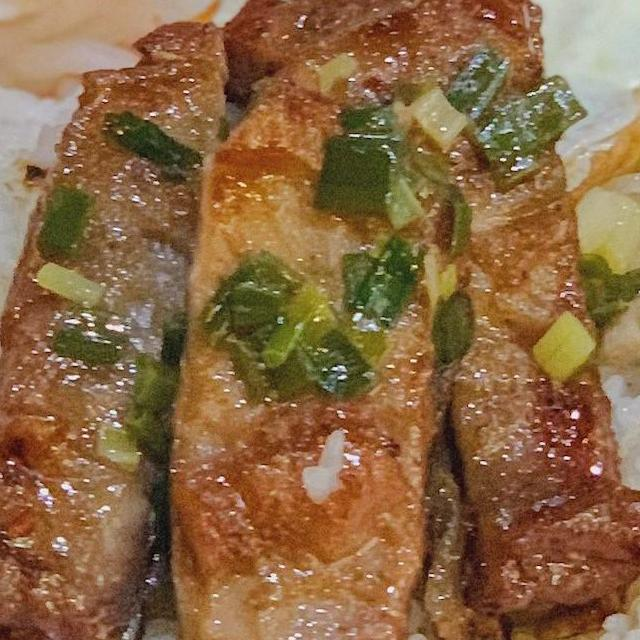com suon bi trung: (0, 0, 640, 640)
suon: (0, 0, 640, 640)
trung: (234, 0, 640, 244), (0, 0, 242, 204)
